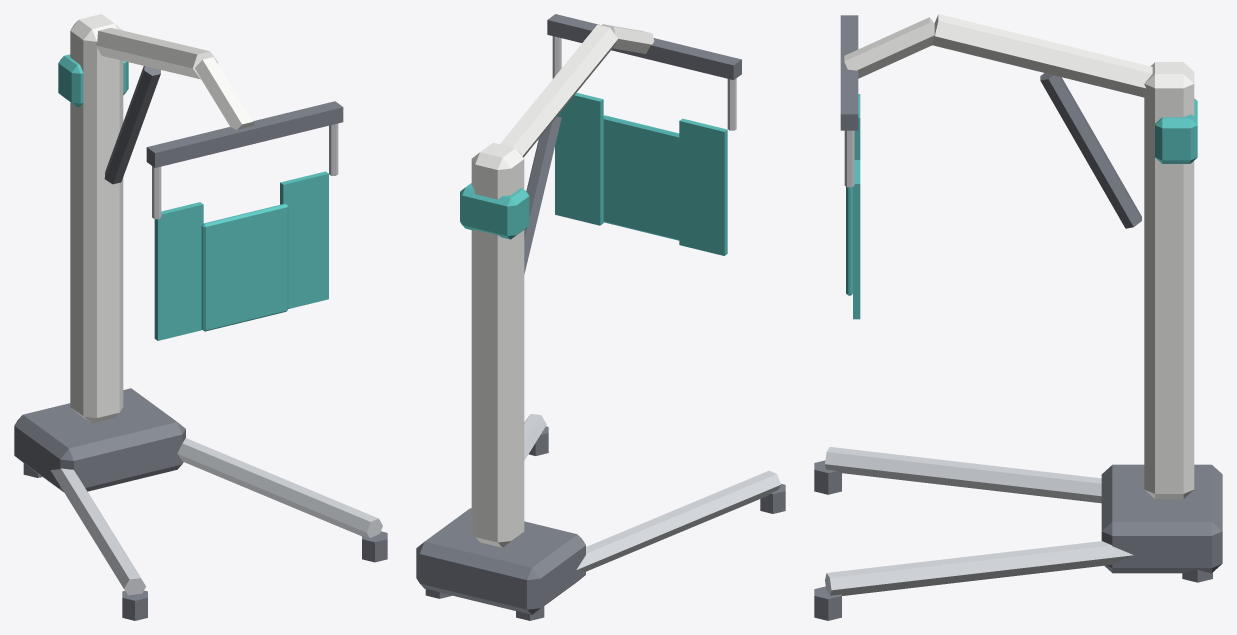
Rendered from medical-23601.glb.
3 renders of one model, left to right at view 1: azimuth 30°, elevation 25°; view 2: azimuth 150°, elevation 25°; view 3: azimuth 270°, elevation 25°, orthographic. The views are drawn at different scales.
Parts seen in each view (by area): view 1: patient-hoist, boom-teal, boom-charcoal, boom, boom-steel; view 2: patient-hoist, boom-teal, boom-charcoal, boom, boom-steel; view 3: patient-hoist, boom, boom-charcoal, boom-teal, boom-steel.
Boxes of the visible parts, x1,y1,x2,y2 form: patient-hoist: [14, 14, 387, 620]; boom-teal: [154, 171, 328, 340]; boom-charcoal: [104, 66, 343, 184]; boom: [95, 28, 254, 129]; boom-steel: [152, 123, 338, 219]; patient-hoist: [416, 142, 785, 620]; boom-teal: [555, 92, 727, 255]; boom-charcoal: [524, 14, 741, 274]; boom: [500, 24, 654, 157]; boom-steel: [552, 36, 736, 130]; patient-hoist: [814, 62, 1222, 620]; boom: [844, 14, 1152, 97]; boom-charcoal: [840, 15, 1141, 228]; boom-teal: [846, 94, 860, 319]; boom-steel: [844, 130, 854, 187].
Size of the model in its own units: 0.93 by 1.66 by 1.15.
